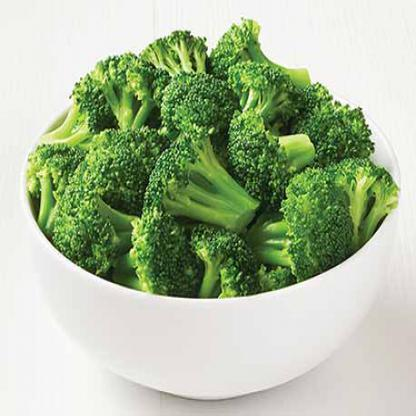broccoli: (28, 14, 402, 296)
